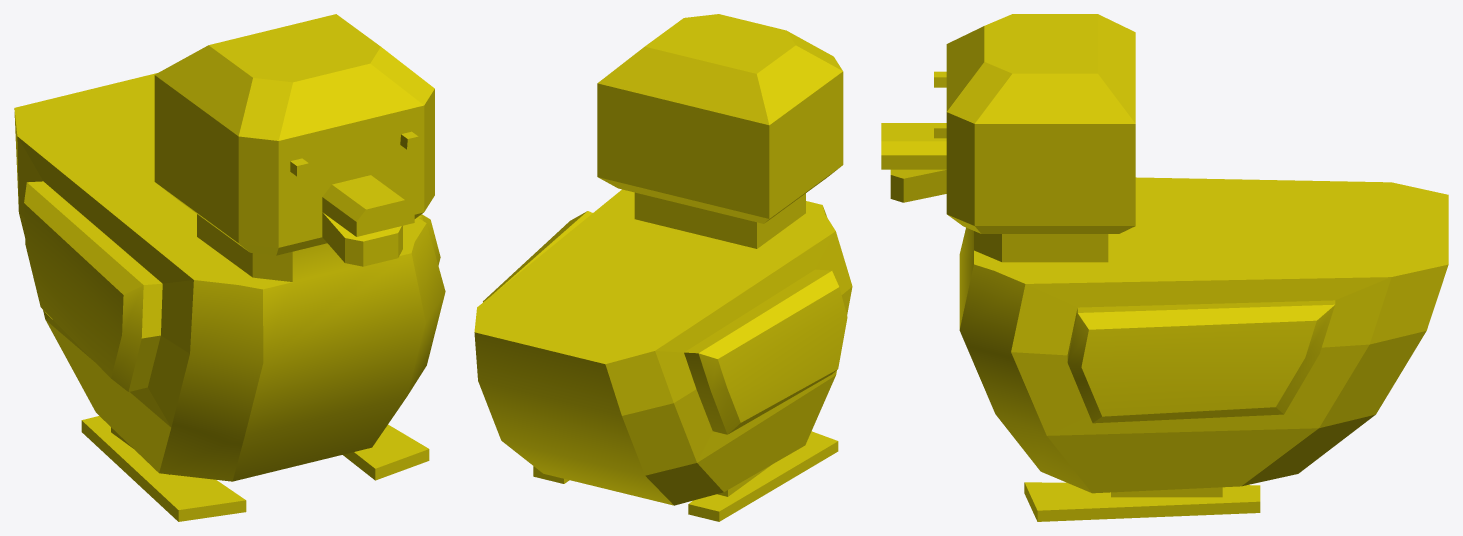
The model's file is CuckooClockDuck.fbx.
3 renders of one model, left to right at view 1: azimuth 30°, elevation 25°; view 2: azimuth 150°, elevation 25°; view 3: azimuth 270°, elevation 25°, orthographic. The views are drawn at different scales.
Visible parts, largest first — view 1: polySurface112; view 2: polySurface112; view 3: polySurface112.
Boxes of the visible parts, x1,y1,x2,y2 form: polySurface112: [14, 14, 445, 521]; polySurface112: [474, 14, 852, 521]; polySurface112: [881, 14, 1448, 521].
Bounding box in the file's own units: 0.1371 × 0.1802 × 0.2208.
